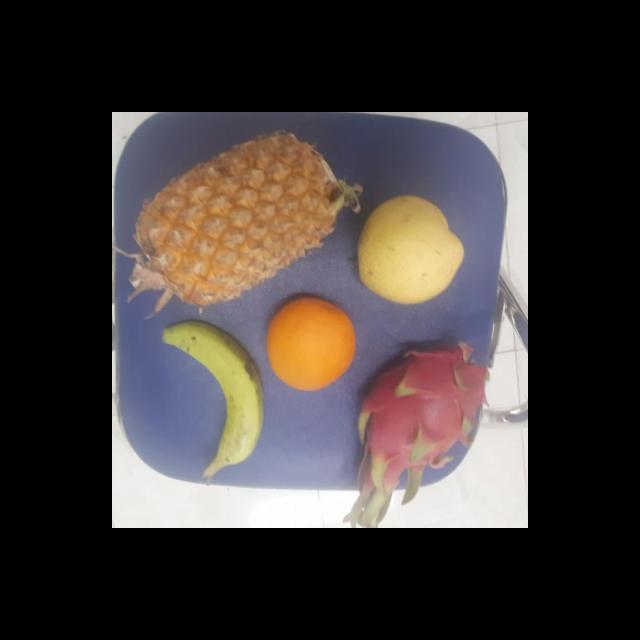banana: (168, 323, 262, 476)
orange: (263, 298, 356, 391)
pear: (351, 194, 465, 304)
pineapple: (118, 133, 342, 310)
pitaya: (348, 340, 487, 492)
